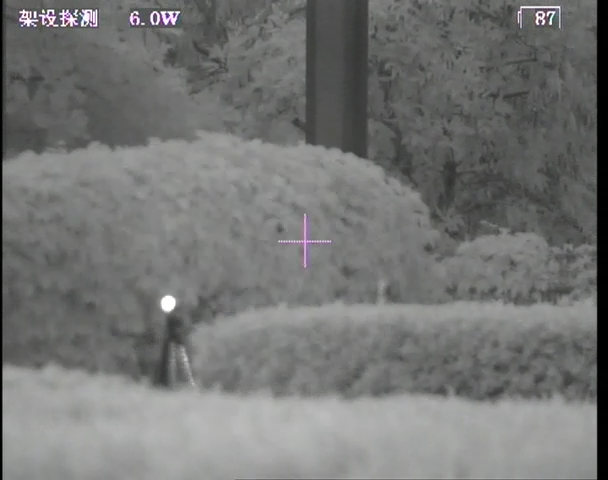my: (158, 294, 177, 314)
